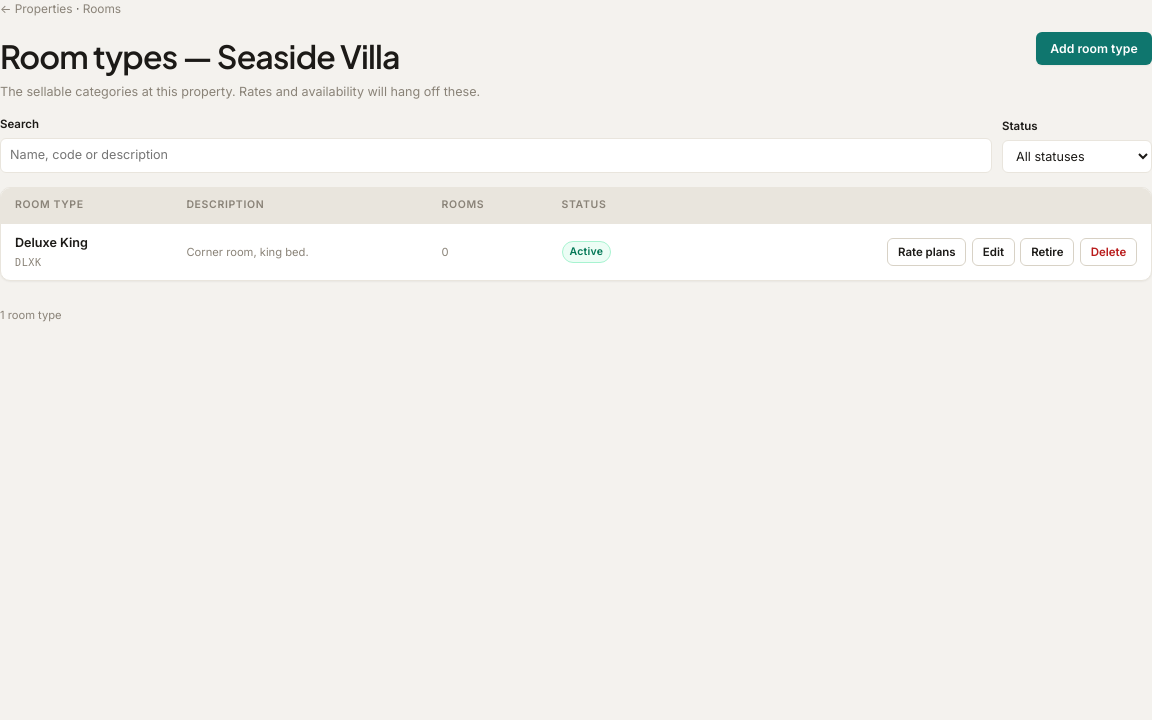
RoomTypesPage — create and edit › says a code cannot be cleared rather than sending a payload the API rejects
Expected: the text "Deluxe King" is shown, [15, 235, 88, 250]
Click the button "Edit" at (993, 252), box [972, 238, 1015, 266]
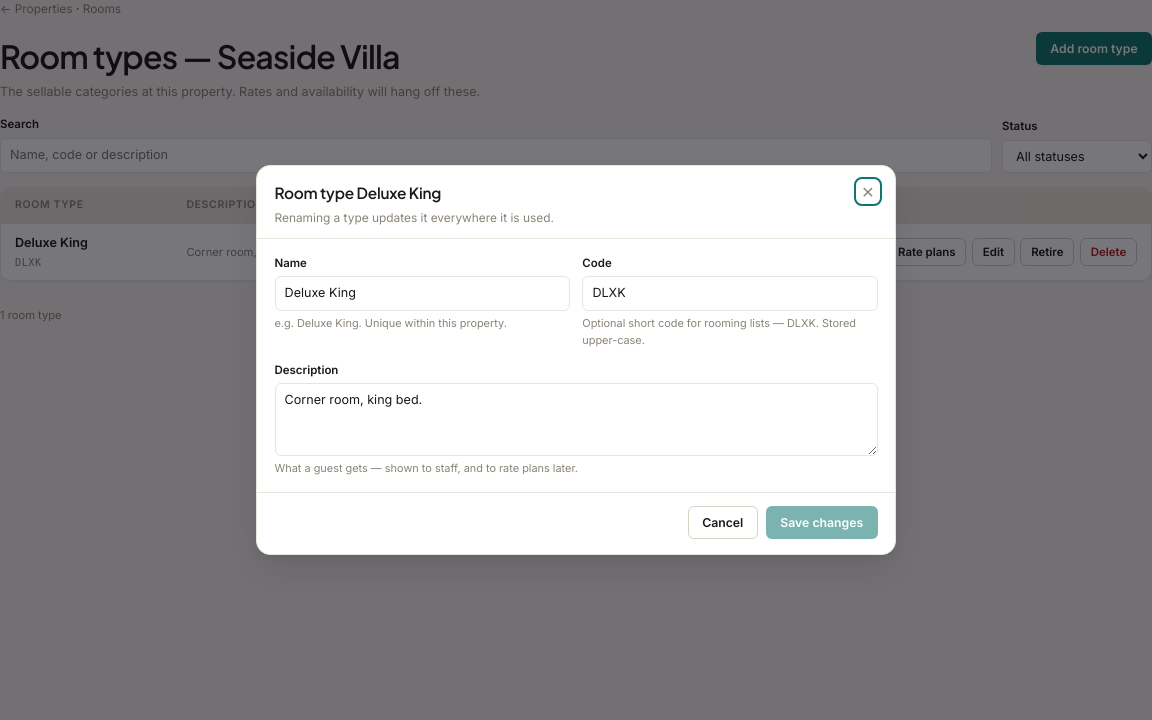
Clear the field labelled "Code" at (730, 294), box [582, 276, 878, 311]
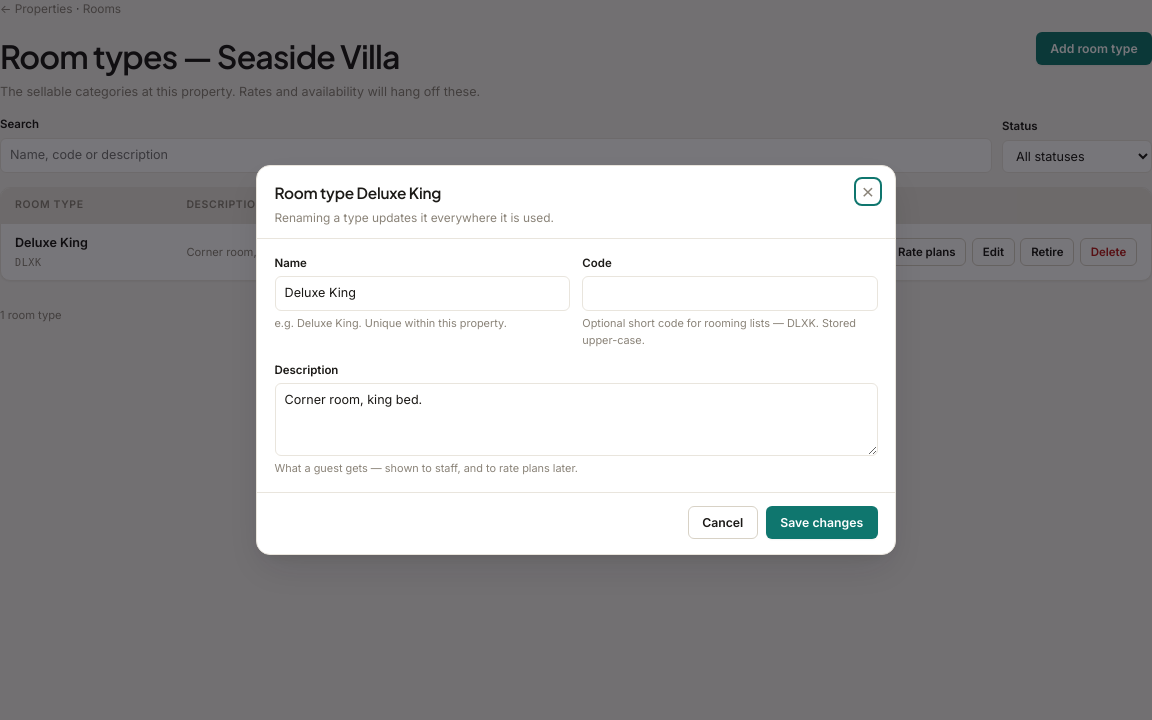
Click the button "Save changes" at (822, 522), box [766, 506, 878, 539]
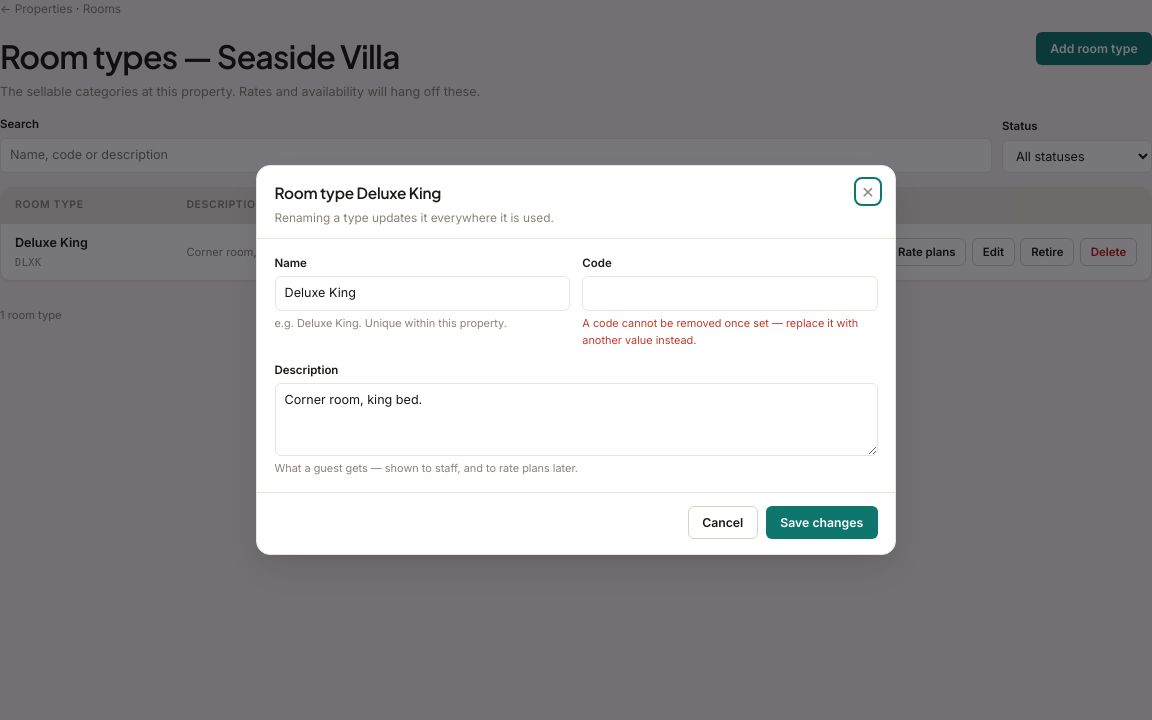
Result: the text "A code cannot be removed once set" is shown at [582, 316, 858, 347]
